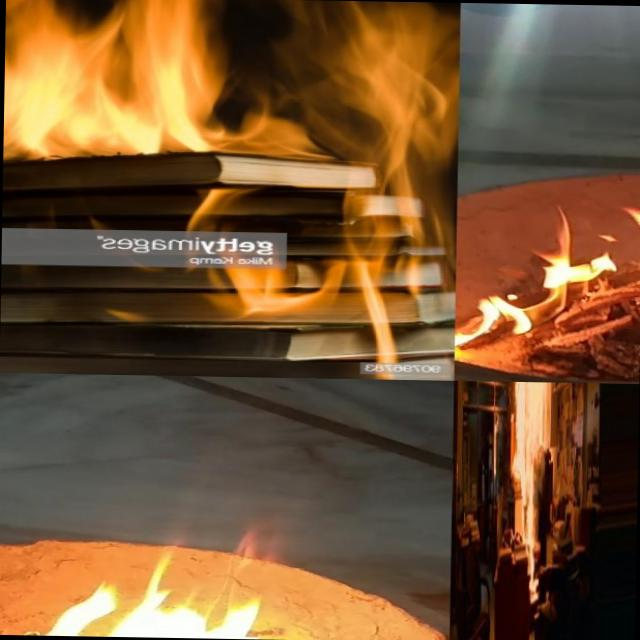fire: (2, 0, 452, 199), (0, 505, 300, 639), (535, 203, 615, 296), (510, 381, 545, 576), (454, 286, 528, 350), (626, 208, 640, 300)
